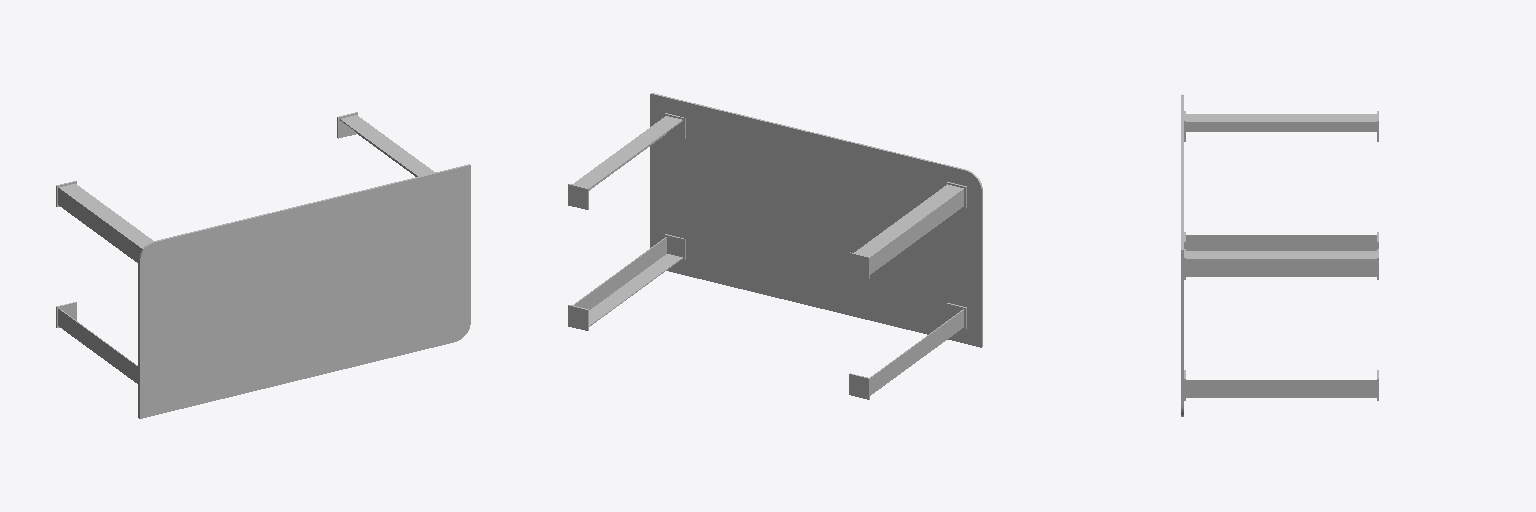
Rendered from mesa_0.obj.
3 views of the same model, side by side, from view 1: azimuth 30°, elevation 25°; view 2: azimuth 150°, elevation 25°; view 3: azimuth 270°, elevation 25° (orthographic).
Visible parts, largest first — view 1: PLATE 2000x1000x13, L4''X1/4'', PLATE 122x122x10; view 2: PLATE 2000x1000x13, L4''X1/4'', PLATE 122x122x10; view 3: L4''X1/4'', PLATE 2000x1000x13.
Part boxes in pixels (left/top/right/bottom): PLATE 2000x1000x13: left=138, top=164, right=470, bottom=418; L4''X1/4'': left=58, top=115, right=434, bottom=383; PLATE 122x122x10: left=56, top=112, right=357, bottom=327; PLATE 2000x1000x13: left=650, top=93, right=982, bottom=347; L4''X1/4'': left=573, top=116, right=963, bottom=395; PLATE 122x122x10: left=568, top=113, right=966, bottom=399; L4''X1/4'': left=1186, top=114, right=1376, bottom=397; PLATE 2000x1000x13: left=1181, top=95, right=1183, bottom=416.
Bounding box in the file's own units: 2 × 1 × 1.03.